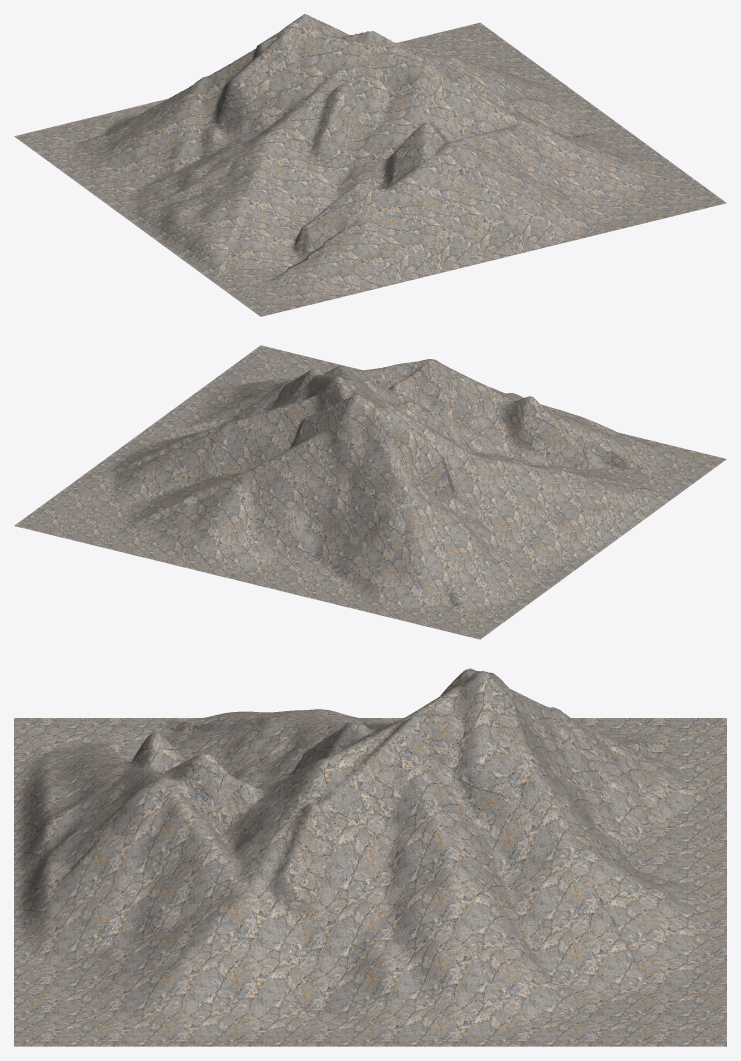
The model's file is corealm_mountain_3.glb.
3 views of the same model, one above another, from view 1: azimuth 30°, elevation 25°; view 2: azimuth 150°, elevation 25°; view 3: azimuth 270°, elevation 25° (orthographic). The views are drawn at different scales.
Visible parts, largest first — view 1: corealm_mountain_3; view 2: corealm_mountain_3; view 3: corealm_mountain_3.
Boxes of the visible parts, box(x1,y1,x2,y2) form: corealm_mountain_3: box(14, 14, 726, 316); corealm_mountain_3: box(14, 345, 726, 639); corealm_mountain_3: box(14, 668, 726, 1046).
Size of the model in its own units: 480 by 131 by 440.
Materials: 1 (1 with a texture image).
